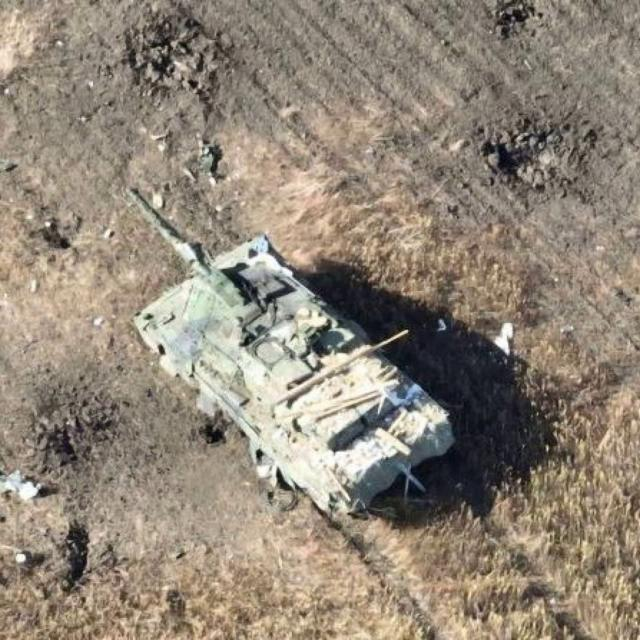MBT: (117, 185, 461, 528)
